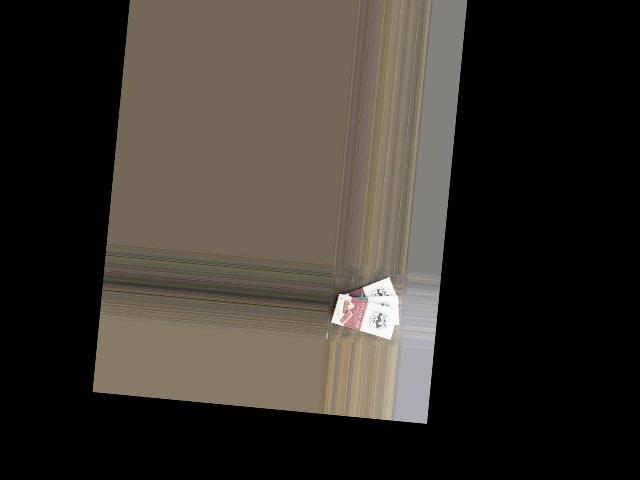chocolate: (332, 271, 403, 319)
